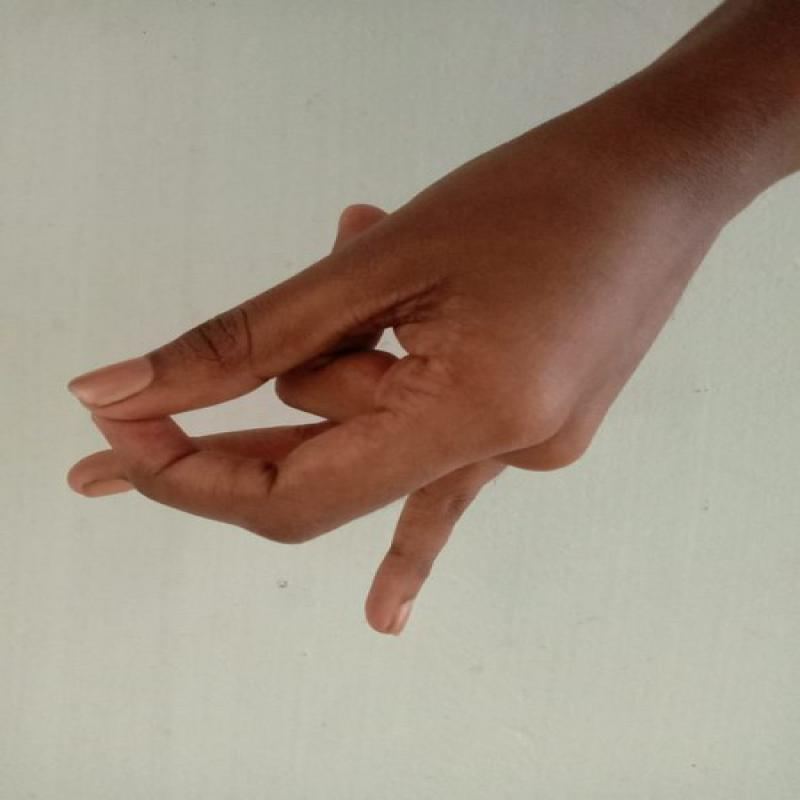Katakam: (37, 101, 659, 645)
